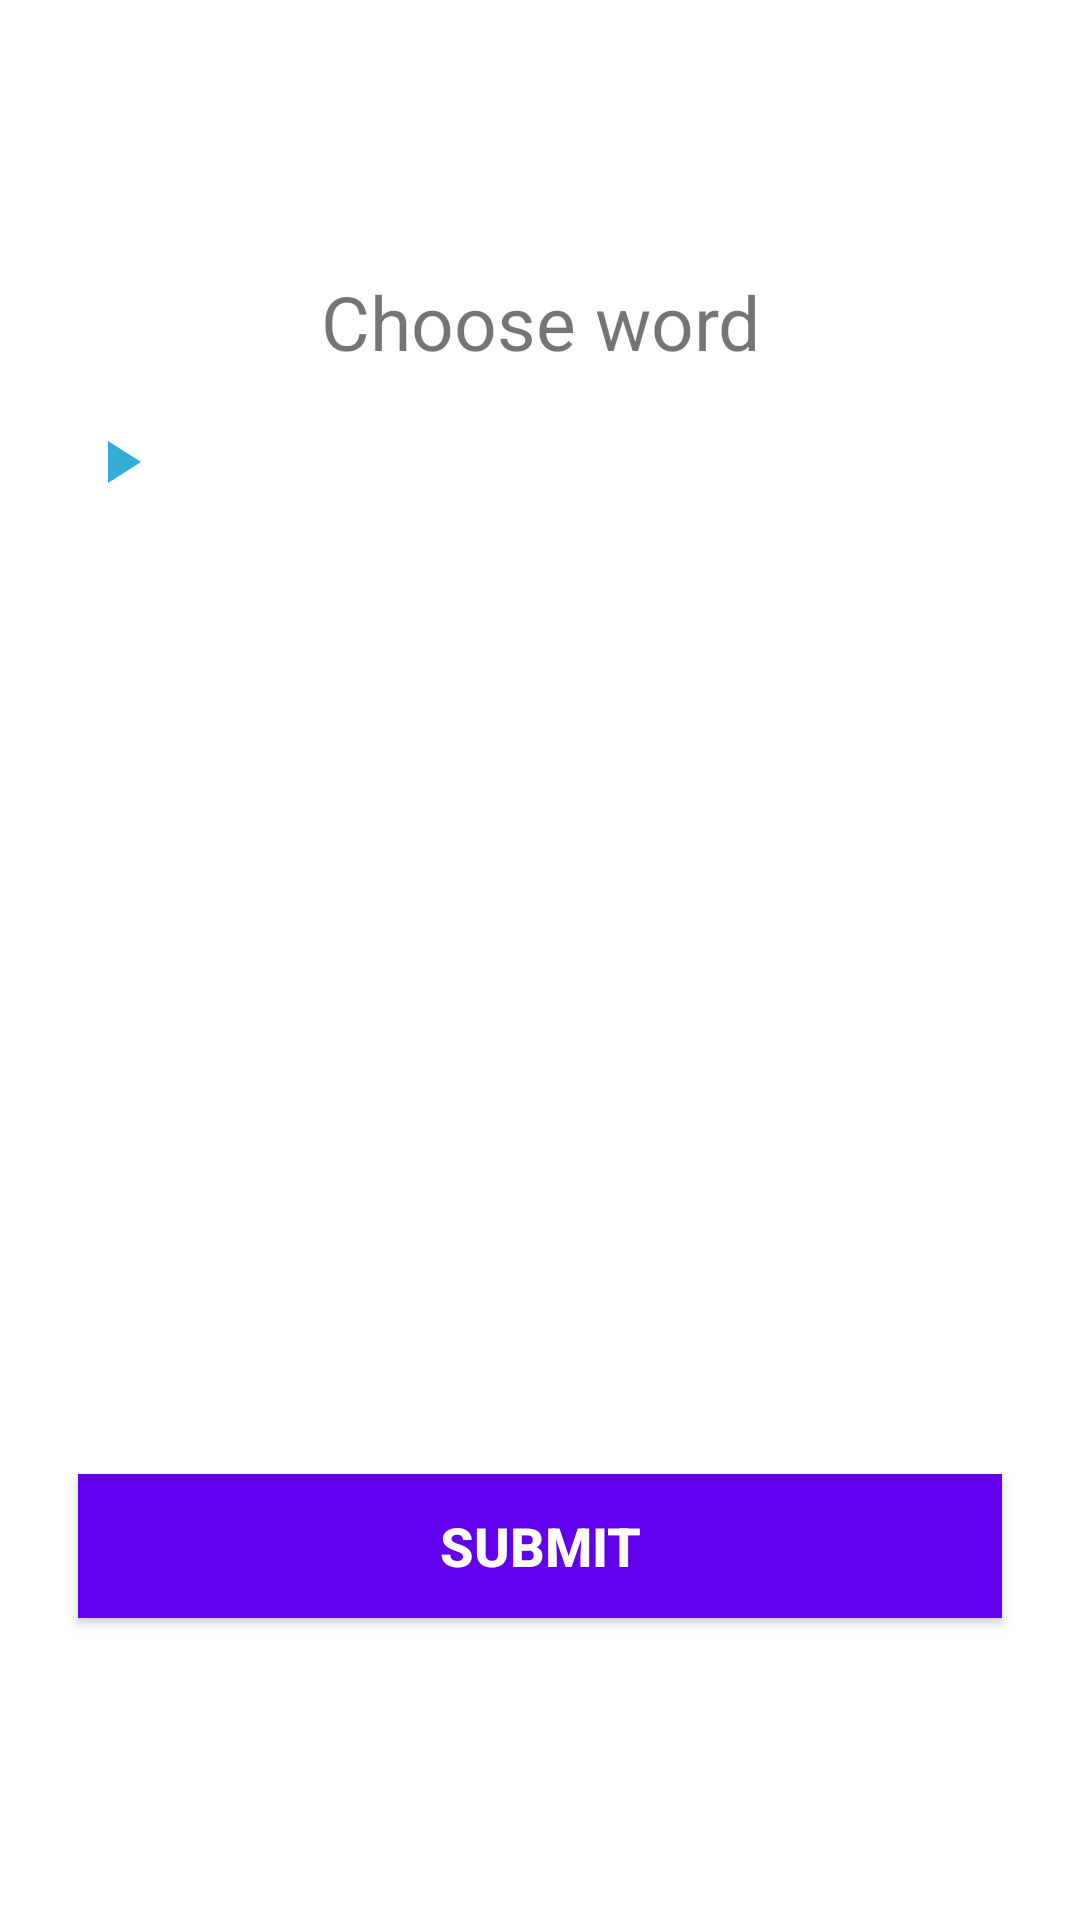

Icons on this 1080 × 1920 Android screen, each with the point to tap as point (x, y):
play: point (124, 462)
